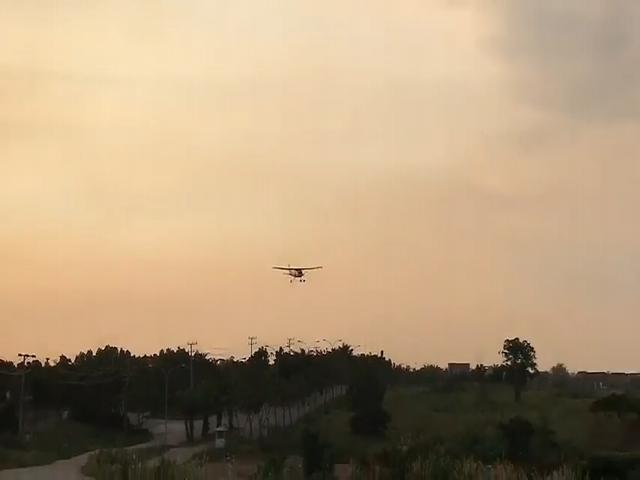plane: (274, 265, 322, 282)
